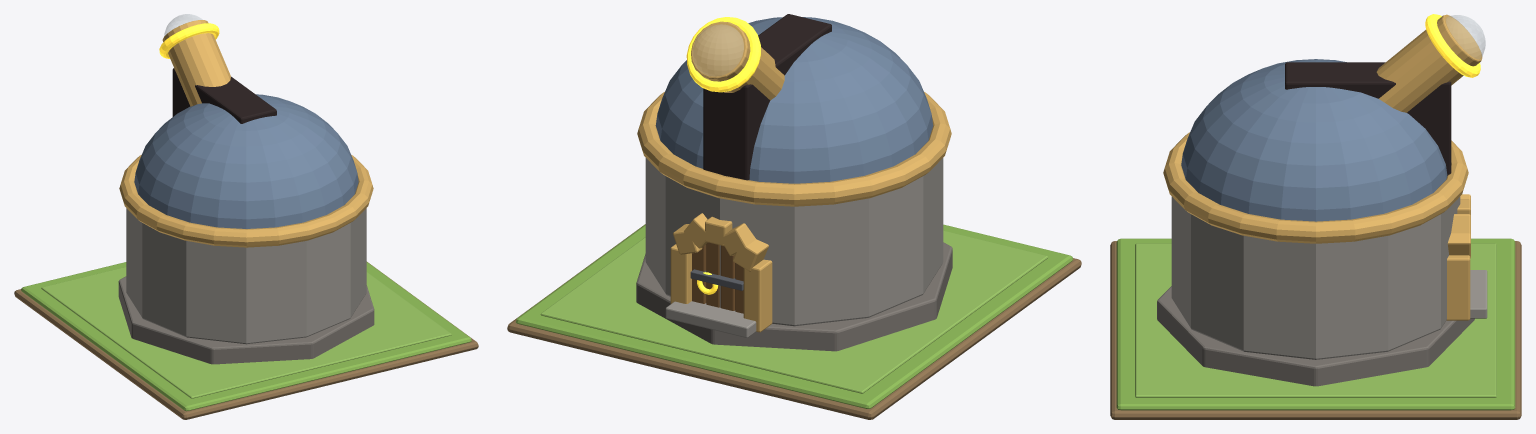
File: star_laboratory_lv3.glb
3 renders of one model, left to right at view 1: azimuth 30°, elevation 25°; view 2: azimuth 150°, elevation 25°; view 3: azimuth 270°, elevation 25°, orthographic. The views are drawn at different scales.
Visible parts, largest first — view 1: SL_Drum, SL_ObservatoryDome, Base_Inner, Base_Grass, SL_Plinth, SL_DomeTrack, Base_Dirt, TelescopeTubeMain, SL_DomeSlitArch, TelescopeCollar; view 2: SL_Drum, SL_ObservatoryDome, Base_Inner, Base_Grass, SL_DomeTrack, SL_Plinth, SL_DomeSlitArch, Base_Dirt, TelescopeTubeMain, TelescopeLens, DoorStep, DoorPillar_-1 (+9 smaller); view 3: SL_Drum, SL_ObservatoryDome, Base_Inner, Base_Grass, SL_DomeTrack, SL_Plinth, Base_Dirt, TelescopeTubeMain, SL_DomeSlitArch, DoorPillar_1, TelescopeLens, TelescopeCollar (+2 smaller).
Part boxes in pixels (box(x1,y1,x2,y2)): SL_Drum: box(126, 208, 366, 344); SL_ObservatoryDome: box(134, 94, 358, 228); Base_Inner: box(41, 267, 451, 398); Base_Grass: box(21, 262, 471, 411); SL_Plinth: box(118, 276, 374, 364); SL_DomeTrack: box(119, 155, 373, 247); Base_Dirt: box(14, 262, 478, 419); TelescopeTubeMain: box(162, 20, 230, 106); SL_DomeSlitArch: box(172, 68, 276, 123); TelescopeCollar: box(159, 23, 219, 58); SL_Drum: box(645, 158, 943, 326); SL_ObservatoryDome: box(655, 17, 933, 183); Base_Inner: box(540, 230, 1048, 393); Base_Grass: box(516, 224, 1072, 408); SL_DomeTrack: box(637, 92, 951, 206); SL_Plinth: box(636, 242, 952, 351); SL_DomeSlitArch: box(703, 14, 831, 180); Base_Dirt: box(507, 224, 1081, 419); TelescopeTubeMain: box(691, 21, 784, 100); TelescopeLens: box(692, 24, 743, 76); DoorStep: box(665, 301, 756, 337); DoorPillar_-1: box(743, 259, 772, 332); SL_Drum: box(1171, 196, 1460, 359); SL_ObservatoryDome: box(1181, 59, 1447, 221); Base_Inner: box(1135, 243, 1496, 397); Base_Grass: box(1116, 238, 1515, 410); SL_DomeTrack: box(1163, 132, 1468, 243); SL_Plinth: box(1157, 286, 1474, 386); Base_Dirt: box(1110, 241, 1521, 419); TelescopeTubeMain: box(1376, 14, 1482, 112); SL_DomeSlitArch: box(1285, 62, 1451, 175); DoorPillar_1: box(1446, 255, 1470, 320); TelescopeLens: box(1446, 15, 1485, 59); TelescopeCollar: box(1425, 14, 1480, 77).
Bounding box in the file's own units: 2.76 × 2.35 × 2.76.
